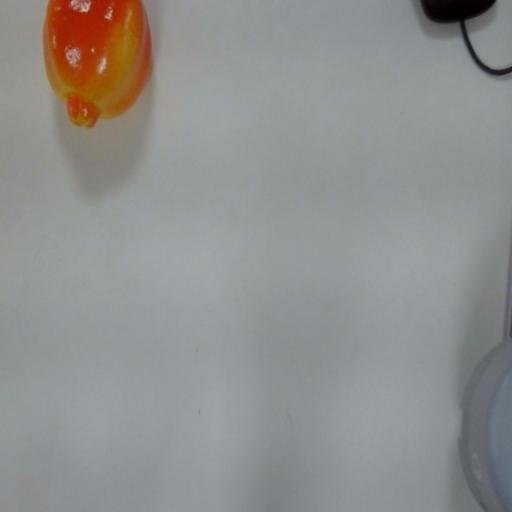Ripe: (38, 0, 157, 130)
